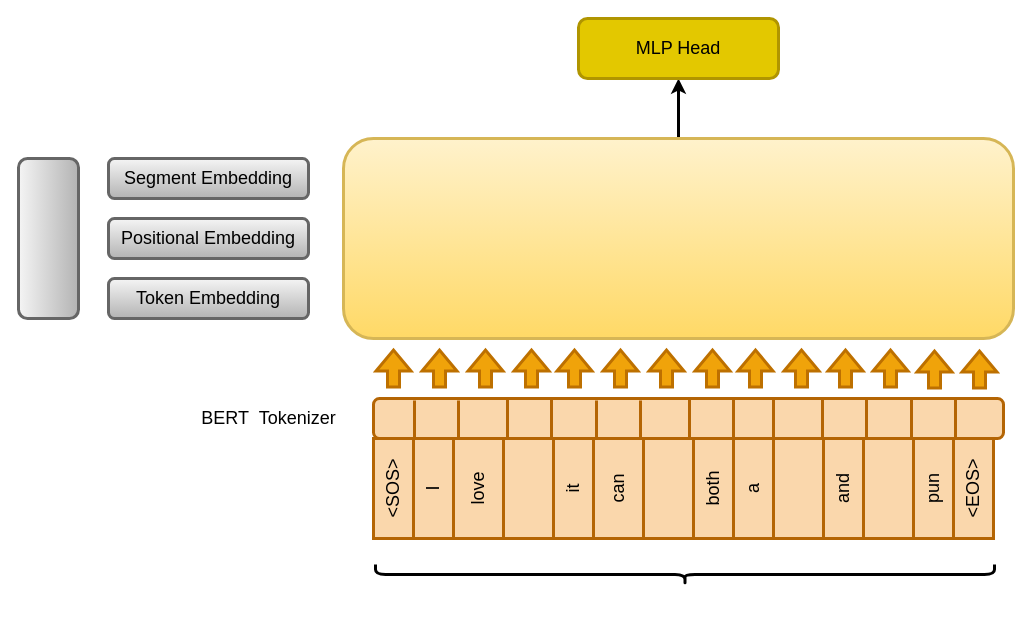
Image size: 1032x640. Some labels were removed from this diagram. The shapes that lost their labels are listed below. From the top down, each one's box as (x1, y1, x2, y2) in pixels, then its label:
(16, 156, 80, 320): Embedding
(342, 136, 1014, 340): BERT
(502, 436, 554, 540): that
(642, 436, 694, 540): be
(772, 436, 824, 540): chemistry
(862, 436, 914, 540): guacamole
(374, 562, 996, 586): Small Chunk
